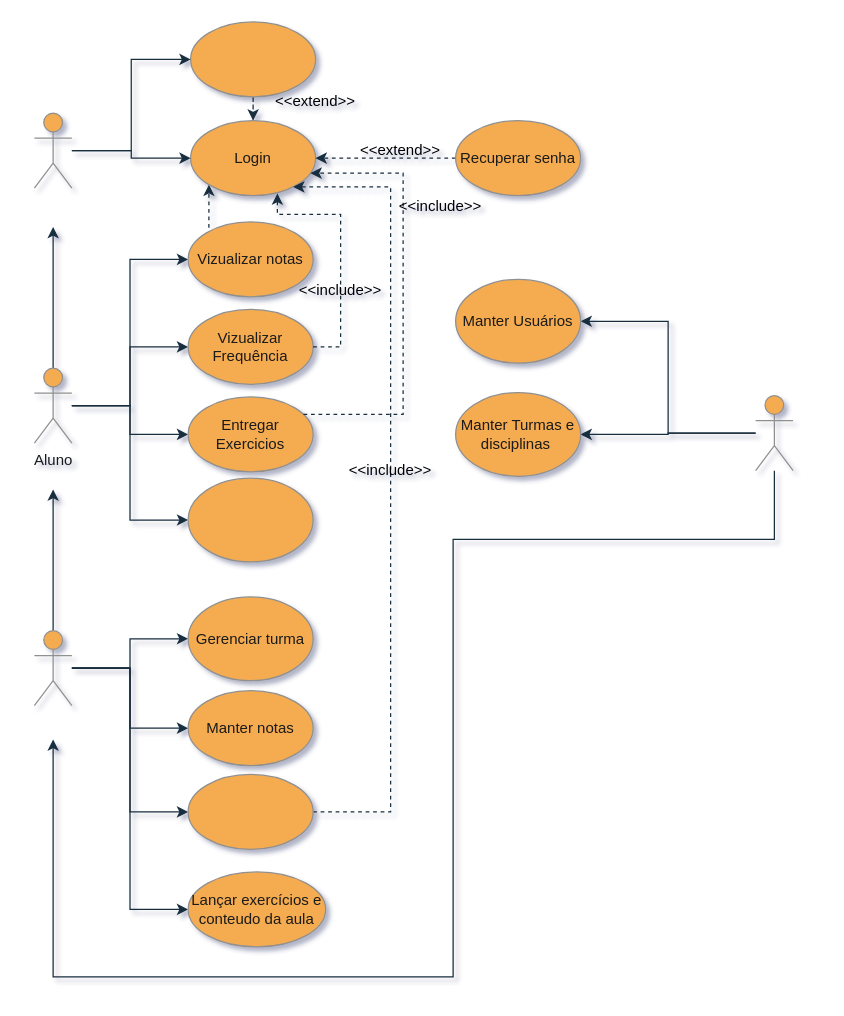
Some shapes in this 844 by 1016 pixel diagram are drawn without their labels. Here are the shapes that lost their labels. From the top down, the centre of each, then its label:
the point at 252,59: Cadastrar
the point at 52,150: Usuário
the point at 773,432: Ad m/Gestor
the point at 250,519: Vizualizar Aulas
the point at 52,667: Professor
the point at 250,811: Manter Aluno
